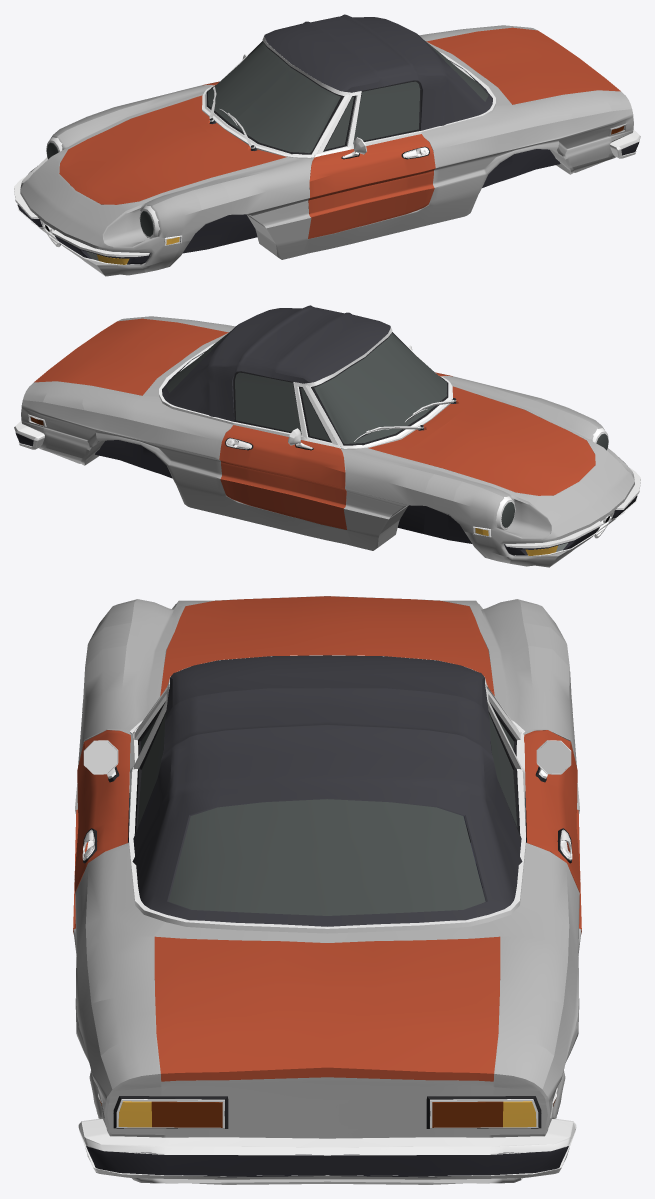
Rendered from CarCarBody.fbx.
3 renders of one model, top to bottom at view 1: azimuth 30°, elevation 25°; view 2: azimuth 150°, elevation 25°; view 3: azimuth 270°, elevation 25°, orthographic. The views are drawn at different scales.
Parts seen in each view (by area): view 1: CarBody; view 2: CarBody; view 3: CarBody.
Part boxes in pixels (x1,y1,x2,y2): CarBody: [14, 14, 640, 276]; CarBody: [14, 305, 640, 567]; CarBody: [73, 596, 581, 1184].
Size of the model in its own units: 191 by 49.93 by 77.08.
